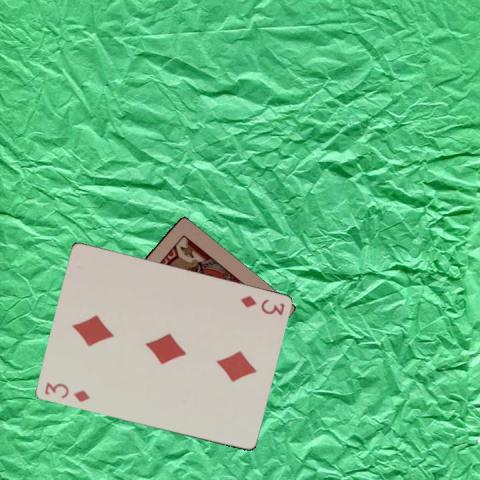3d: (41, 379, 91, 404), (237, 293, 286, 317)
